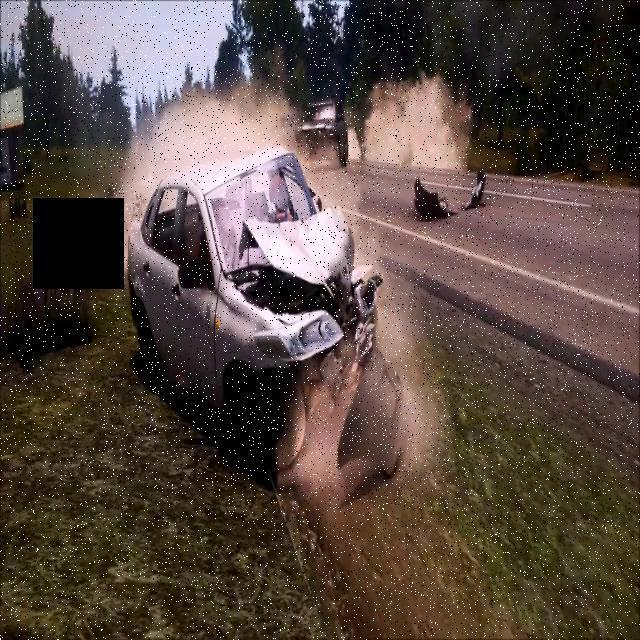multiple_accident: (100, 130, 427, 528), (289, 90, 510, 228)
